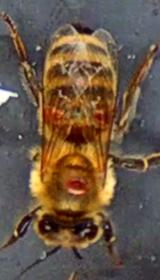varroa_mite: (38, 94, 70, 136), (54, 168, 93, 199), (87, 94, 115, 136)
